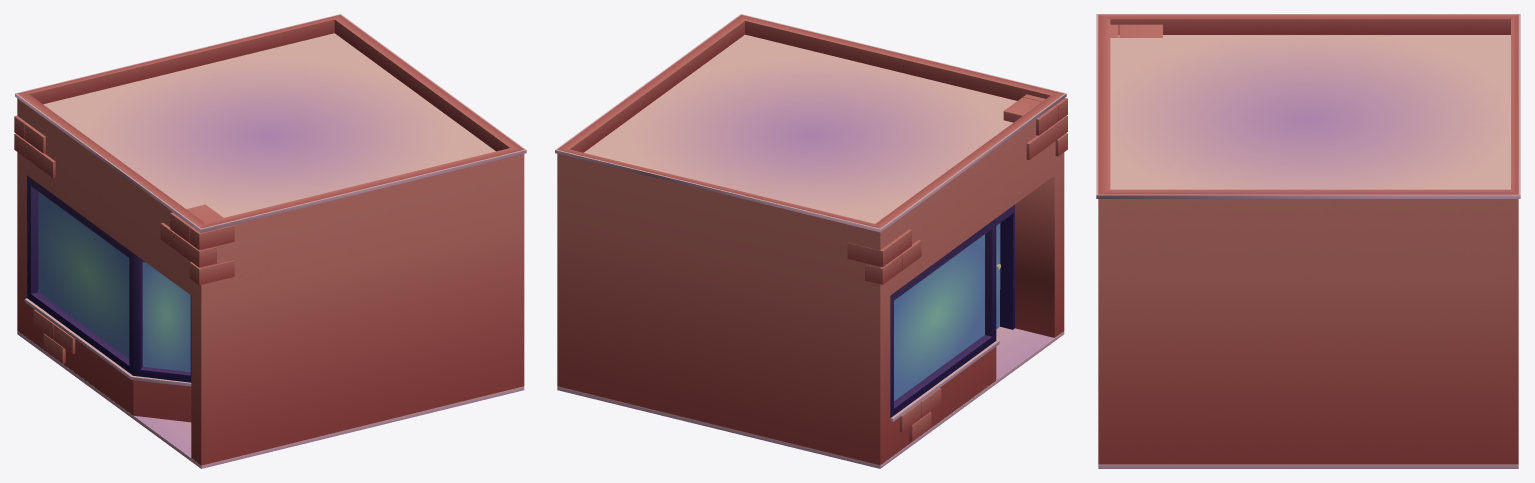
The model's file is SM_1F_Square_01.fbx.
The picture shows the model from 3 angles, left to right: view 1: azimuth 30°, elevation 25°; view 2: azimuth 150°, elevation 25°; view 3: azimuth 270°, elevation 25°; orthographic projection. The views are drawn at different scales.
Visible parts, largest first — view 1: SM_1F_Square_01; view 2: SM_1F_Square_01; view 3: SM_1F_Square_01.
Part boxes in pixels (left/top/right/bottom): SM_1F_Square_01: left=14, top=14, right=526, bottom=468; SM_1F_Square_01: left=555, top=14, right=1067, bottom=468; SM_1F_Square_01: left=1096, top=14, right=1520, bottom=468.
Bounding box in the file's own units: 6.41 × 6.31 × 4.5.
